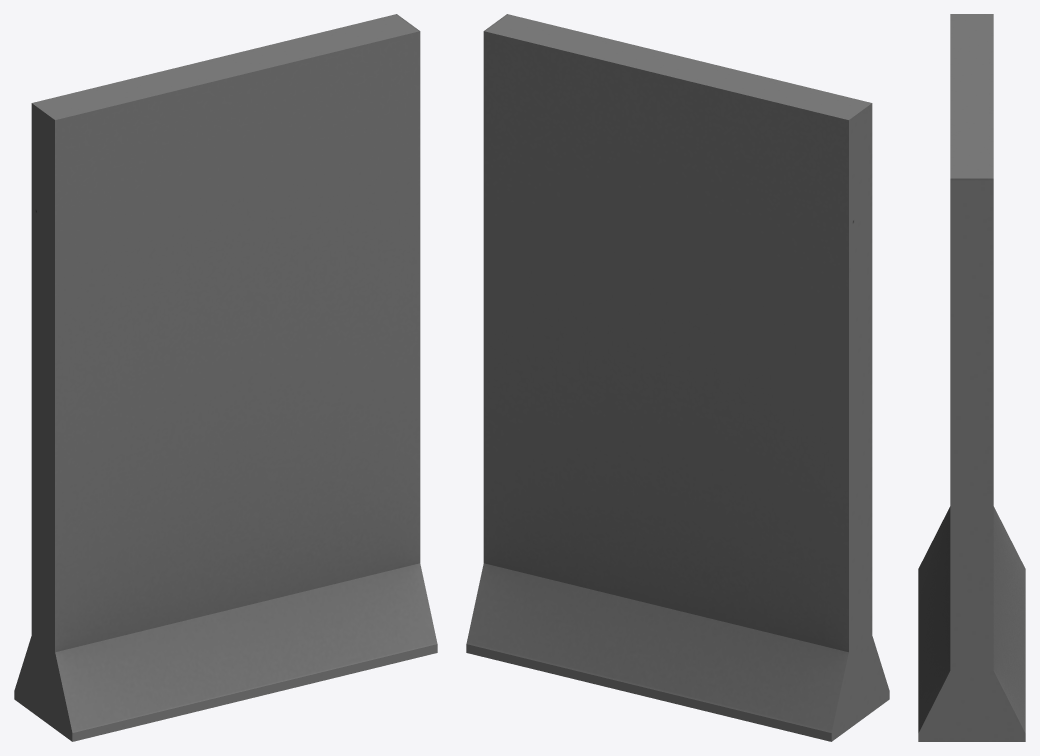
File: Jersey_Barricade_Tall.fbx
3 renders of one model, left to right at view 1: azimuth 30°, elevation 25°; view 2: azimuth 150°, elevation 25°; view 3: azimuth 270°, elevation 25°, orthographic. The views are drawn at different scales.
Visible parts, largest first — view 1: Jersey_Barricade_Tall; view 2: Jersey_Barricade_Tall; view 3: Jersey_Barricade_Tall.
Boxes of the visible parts, box(x1,y1,x2,y2) form: Jersey_Barricade_Tall: box(14, 14, 437, 741); Jersey_Barricade_Tall: box(466, 14, 889, 741); Jersey_Barricade_Tall: box(918, 14, 1025, 741).
Size of the model in its own units: 7.22 by 11.51 by 1.99.
